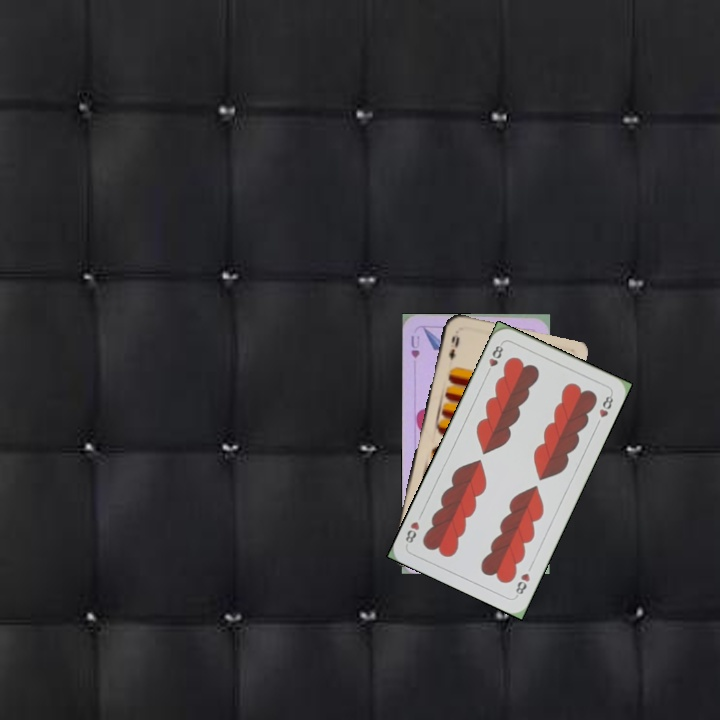E9: (445, 332, 462, 363)
H8: (482, 339, 506, 377), (511, 569, 533, 599)
HU: (407, 332, 422, 361)
